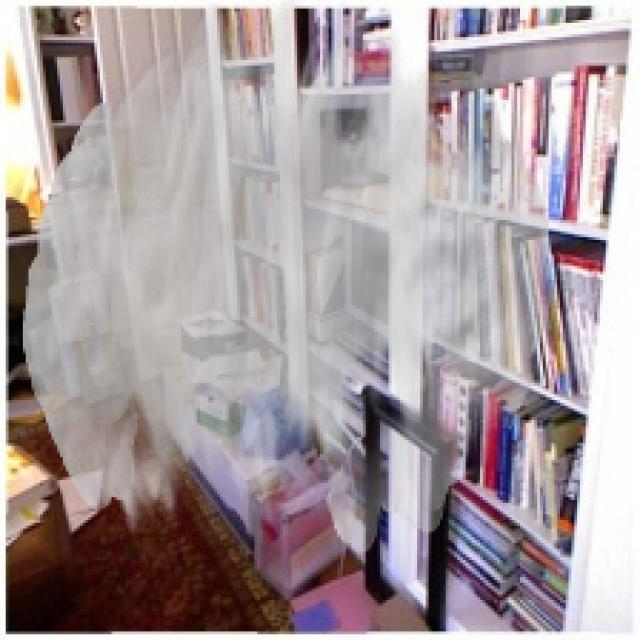Smoke: (22, 0, 552, 555)
